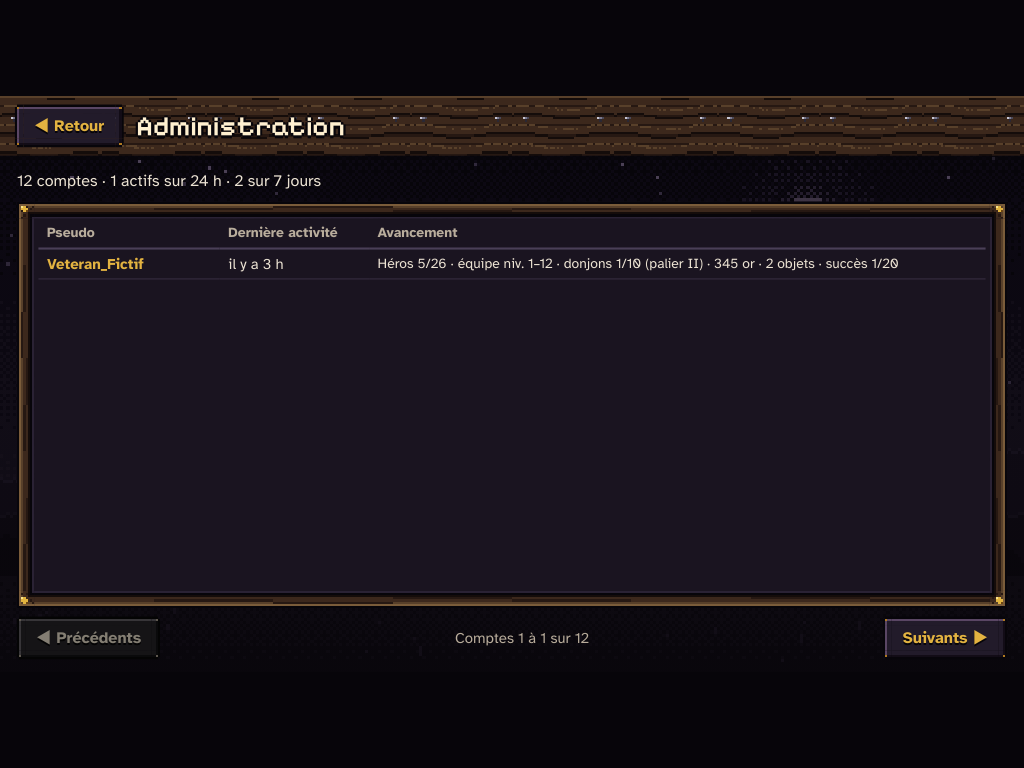
entrée « Administration » du camp › affiche en entier la fiche d’un joueur de fin de partie (25 héros, 30 donjons au palier III)
Click the button "Veteran_Fictif" at (95, 264), box [47,253,144,275]
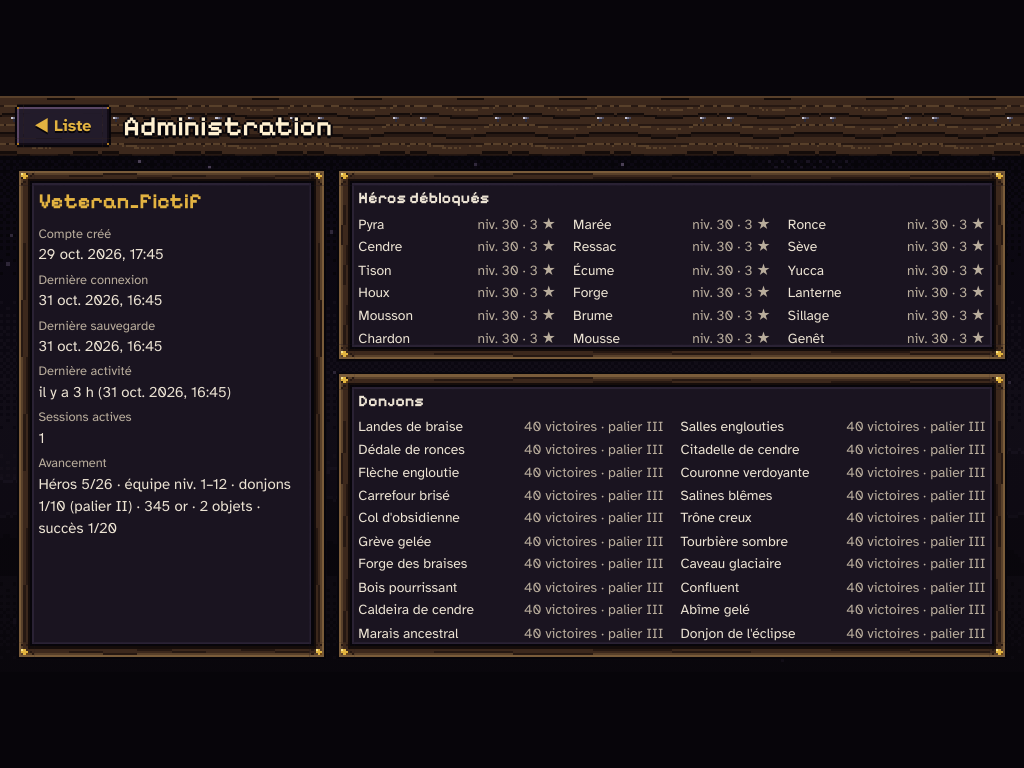
Expected: the text "Pyra" is shown, [358,214,384,235]
Expected: the text "Marée" is shown, [573,214,612,235]
Expected: the text "Ronce" is shown, [788,214,826,235]
